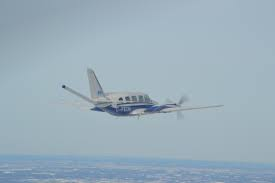plane: (61, 69, 224, 117)
